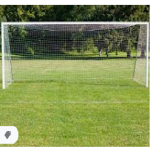goals: (1, 21, 150, 90)
